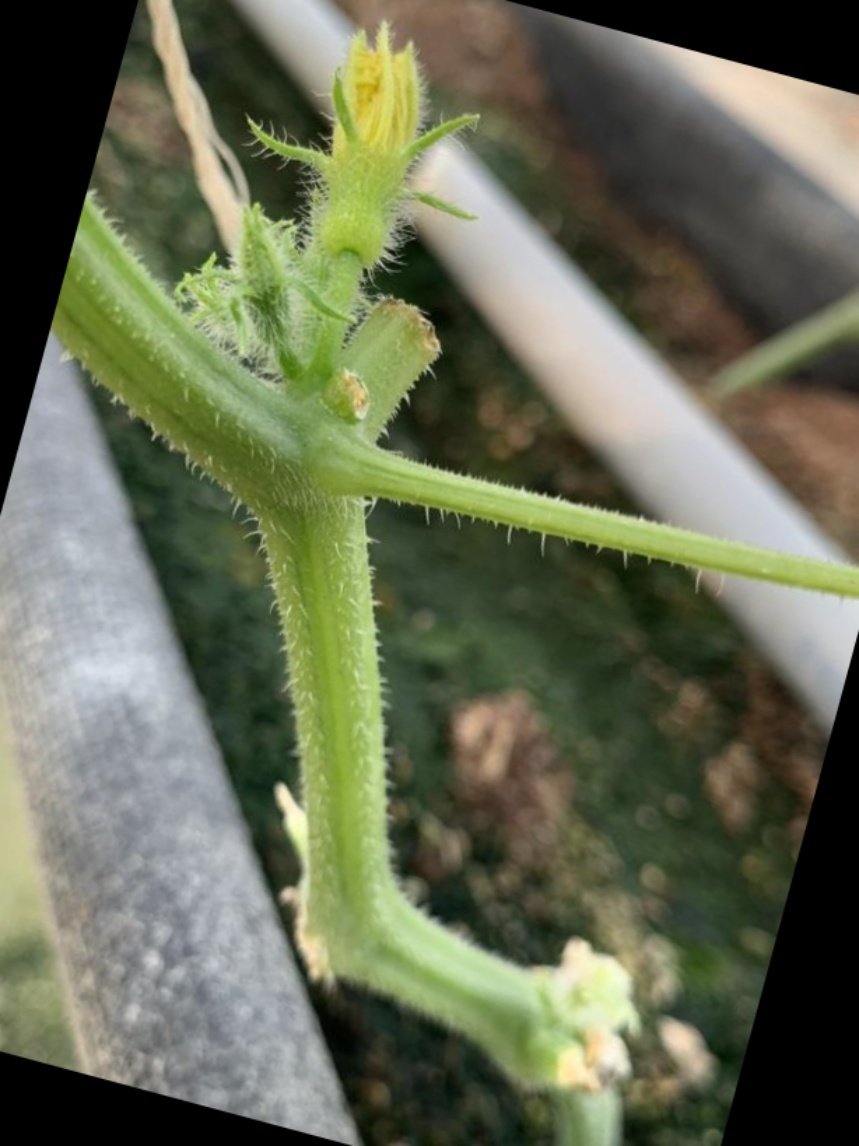bud: (268, 9, 478, 286)
